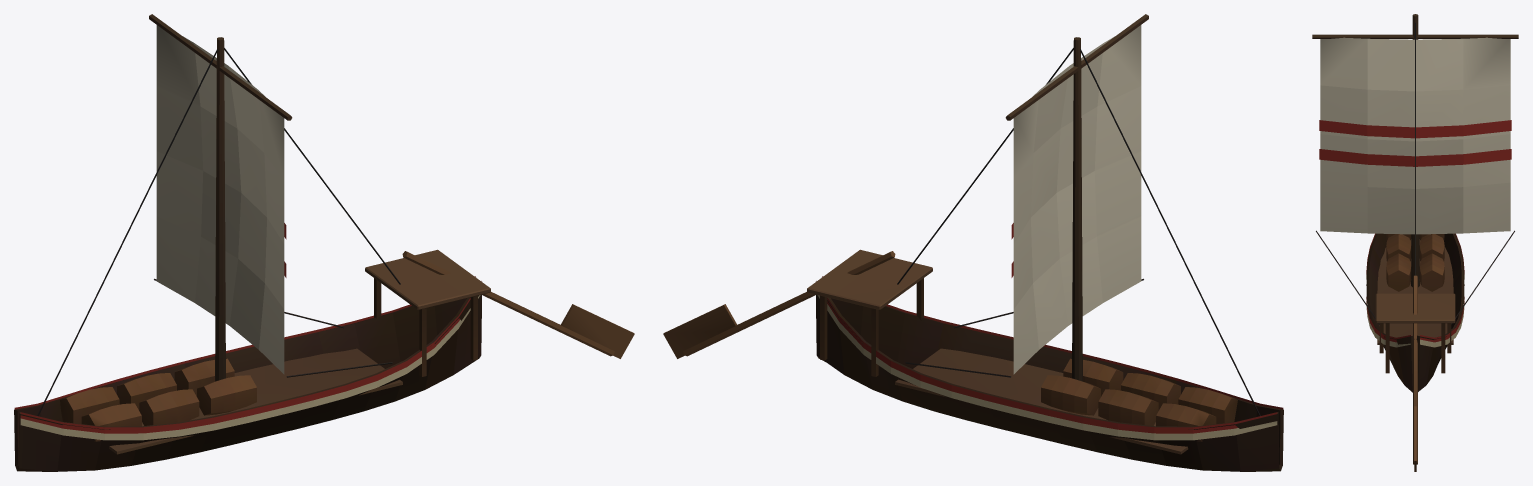
The model's file is rb_rabelo-sRCGmWAQ.glb.
3 renders of one model, left to right at view 1: azimuth 30°, elevation 25°; view 2: azimuth 150°, elevation 25°; view 3: azimuth 270°, elevation 25°, orthographic. The views are drawn at different scales.
Bounding box in the file's own units: 13.39 × 8.65 × 5.2.
